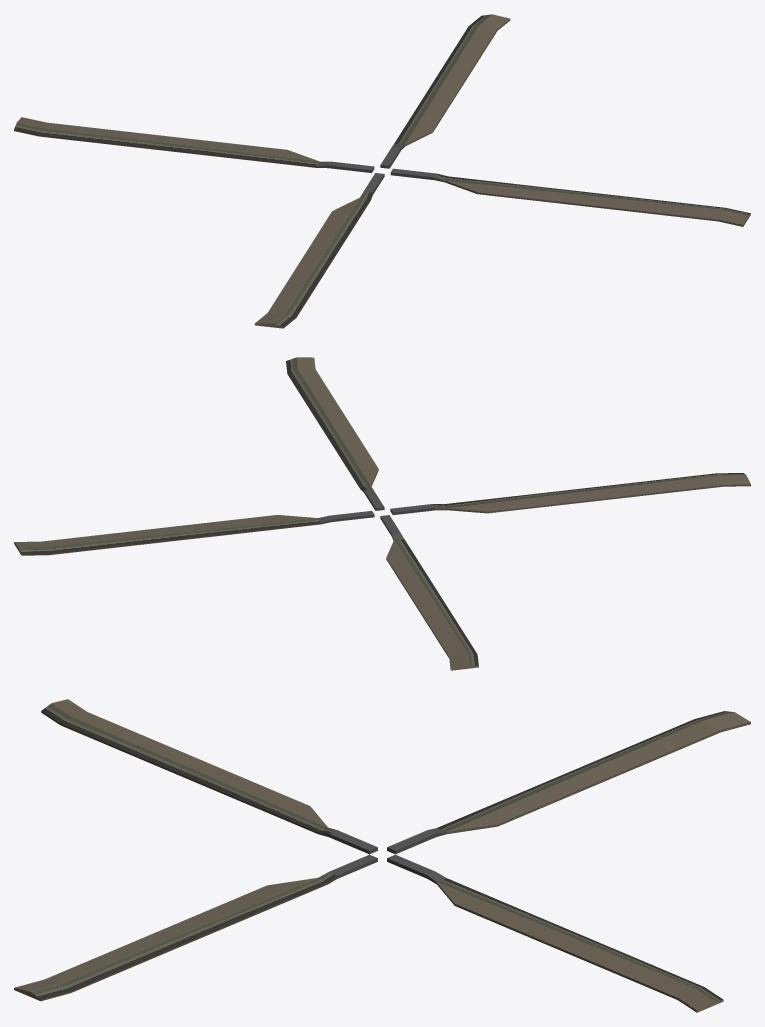
Rendered from helice.fbx.
3 views of the same model, one above another, from view 1: azimuth 30°, elevation 25°; view 2: azimuth 150°, elevation 25°; view 3: azimuth 270°, elevation 25° (orthographic). The views are drawn at different scales.
Visible parts, largest first — view 1: Cube.009; view 2: Cube.009; view 3: Cube.009.
Part boxes in pixels (left/top/right/bottom): Cube.009: left=14, top=14, right=750, bottom=328; Cube.009: left=14, top=357, right=750, bottom=670; Cube.009: left=14, top=699, right=750, bottom=1012.
Bounding box in the file's own units: 219 × 1.7 × 219.
